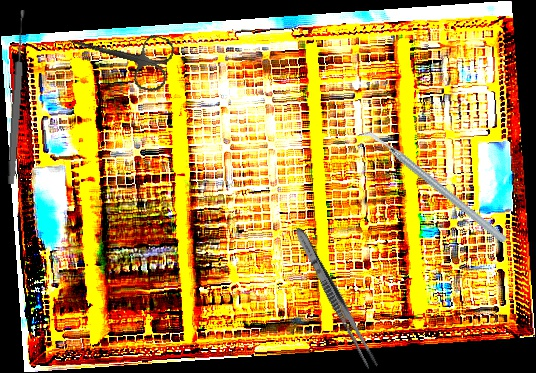Chopper: (356, 93, 508, 280)
Dressing Forceps: (290, 224, 381, 372)
Iris Scissors: (60, 12, 177, 95)
Surgical Spoon: (5, 9, 29, 185)
